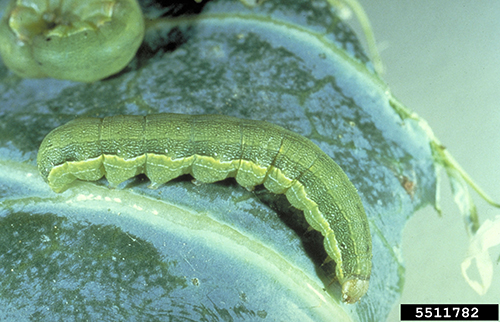Armyworm: (29, 101, 387, 316)
